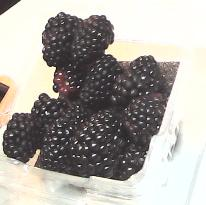berry: (67, 109, 127, 178), (123, 91, 166, 152), (111, 55, 159, 109), (77, 54, 124, 108), (32, 93, 72, 148), (34, 120, 75, 173), (41, 12, 81, 66), (70, 15, 113, 63), (53, 47, 88, 98), (2, 112, 38, 161)
